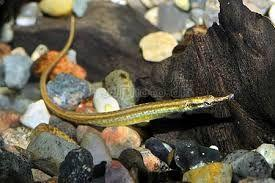Long-Snouted Pipefish: (37, 13, 234, 127)
